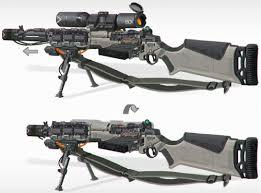rifle: (2, 7, 261, 89), (24, 120, 261, 193)
